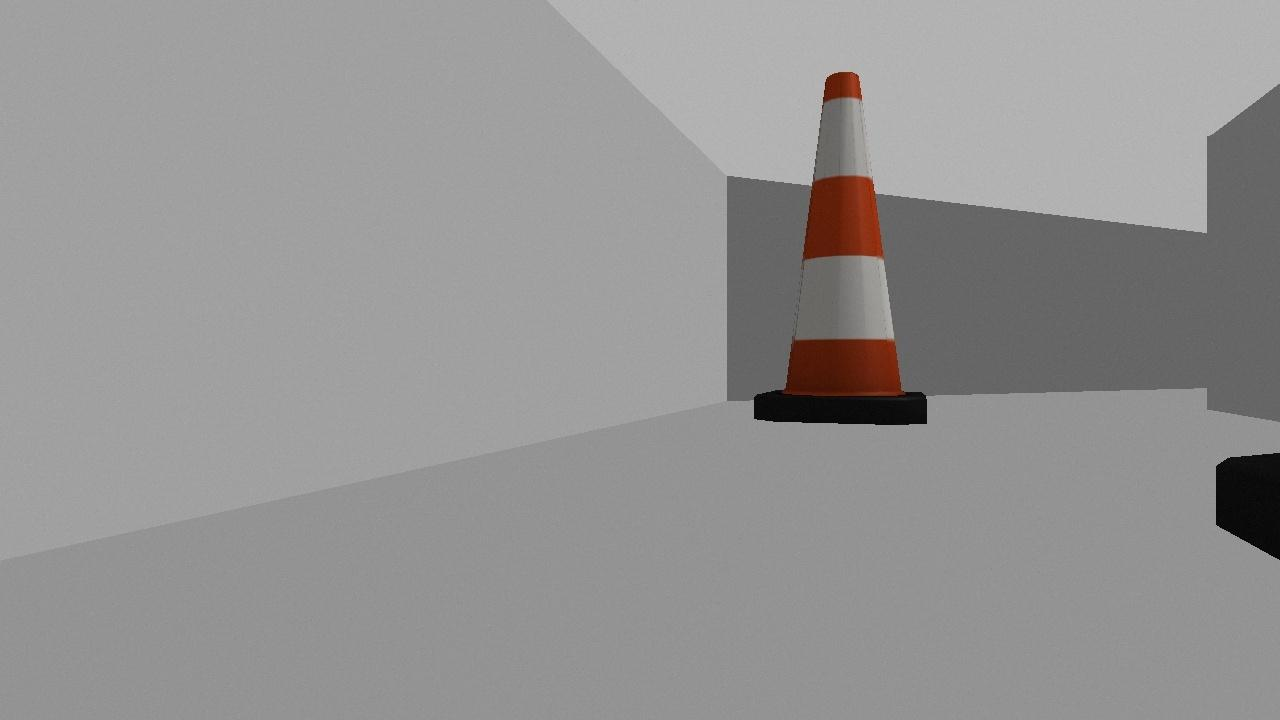cone_barrel: (714, 52, 953, 452)
